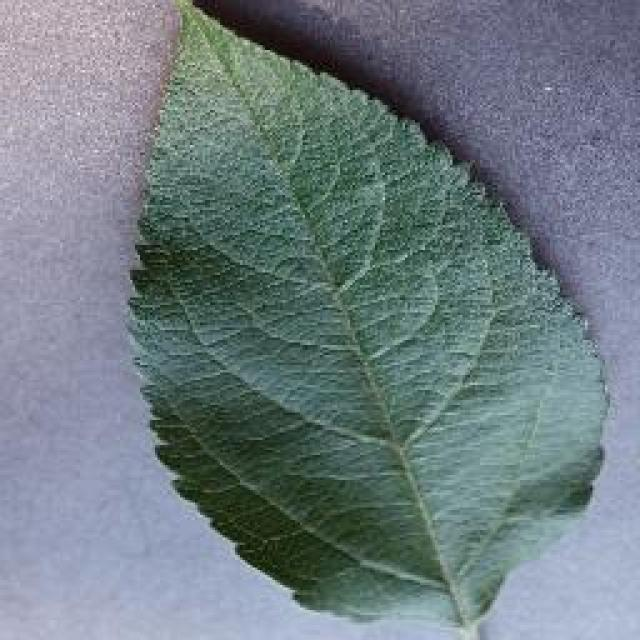apple healthy: (120, 0, 612, 638)
